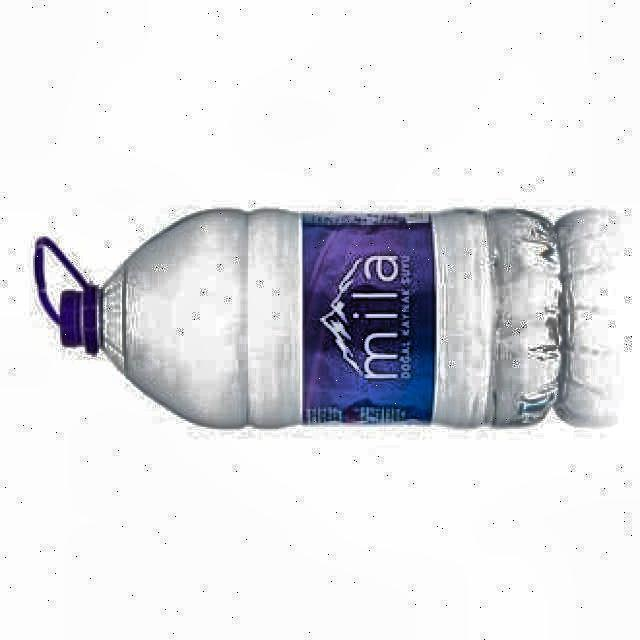plastic: (35, 210, 561, 427)
